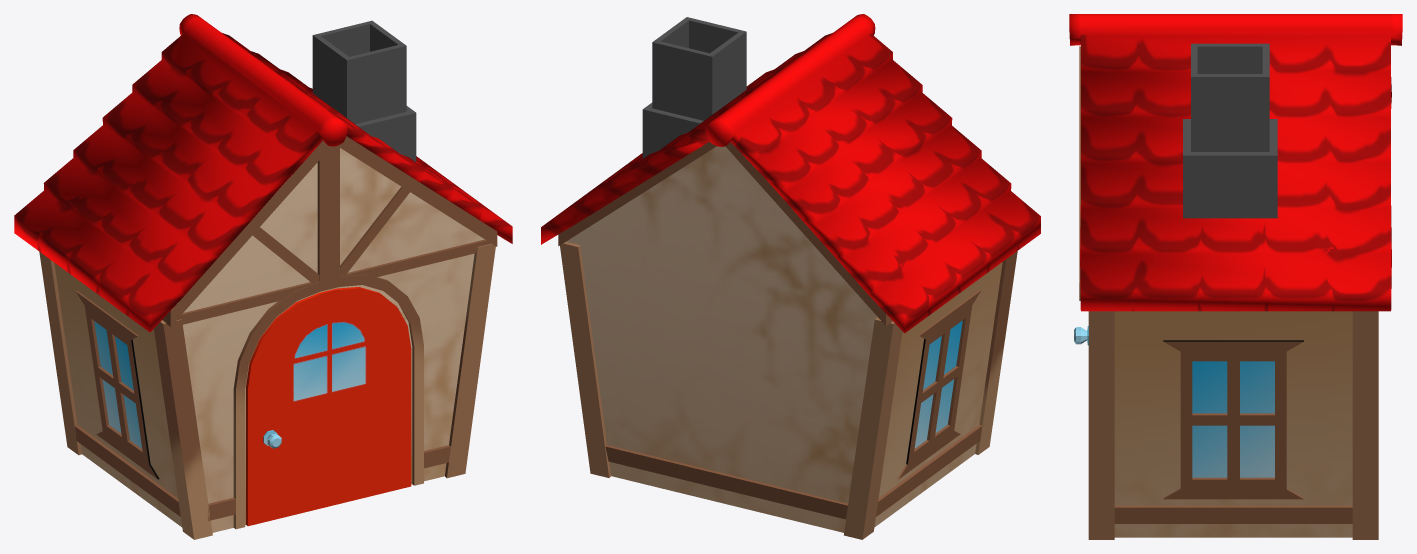
File: house1.glb
3 renders of one model, left to right at view 1: azimuth 30°, elevation 25°; view 2: azimuth 150°, elevation 25°; view 3: azimuth 270°, elevation 25°, orthographic. The views are drawn at different scales.
Visible parts, largest first — view 1: house1, toitrougeanilow.001, doorougehouse1.001; view 2: house1, toitrougeanilow.001; view 3: house1, toitrougeanilow.001.
Boxes of the visible parts, x1,y1,x2,y2 form: house1: [39, 20, 497, 539]; toitrougeanilow.001: [14, 14, 512, 332]; doorougehouse1.001: [246, 287, 411, 526]; house1: [558, 17, 1017, 539]; toitrougeanilow.001: [541, 14, 1040, 333]; house1: [1079, 43, 1378, 539]; toitrougeanilow.001: [1069, 14, 1402, 311].
Size of the model in its own units: 2.07 by 2.18 by 1.44.
Materials: 1 (1 with a texture image).
